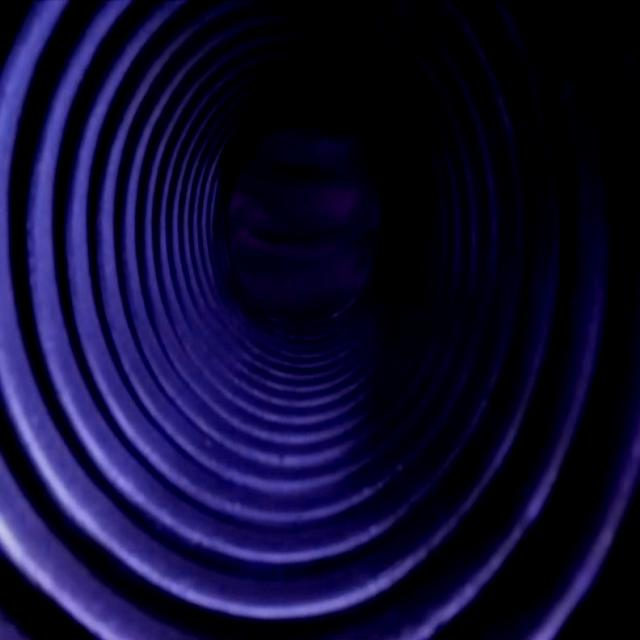block: (222, 131, 376, 330)
